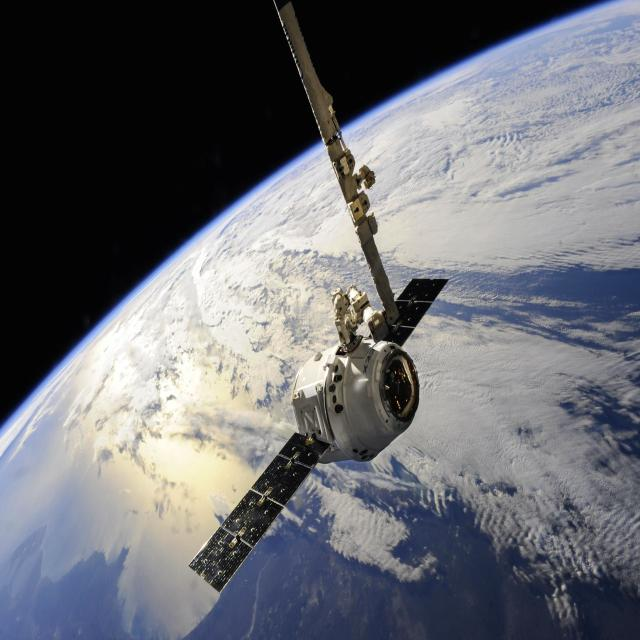medium_debris: (190, 0, 448, 592)
